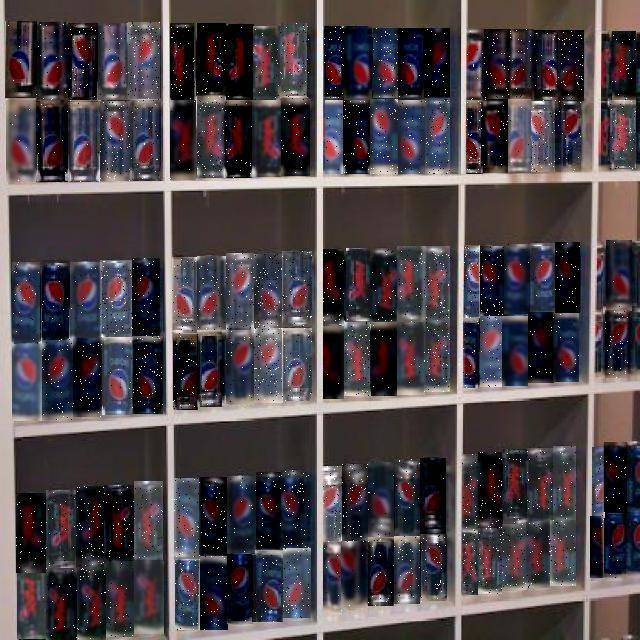Drinks: (36, 101, 70, 183), (5, 22, 38, 102), (68, 101, 100, 183), (100, 101, 132, 181), (6, 102, 37, 184), (130, 99, 161, 181), (128, 22, 160, 100), (70, 262, 102, 340), (42, 340, 73, 420), (98, 23, 130, 100), (100, 260, 132, 337), (46, 490, 76, 572), (37, 22, 68, 101), (73, 338, 104, 417), (102, 337, 133, 415), (132, 337, 163, 415), (16, 493, 46, 573), (104, 486, 134, 566), (68, 23, 98, 102), (196, 24, 227, 100), (224, 100, 254, 178), (134, 482, 163, 562), (252, 100, 282, 177), (12, 344, 42, 421), (42, 261, 70, 343), (76, 486, 104, 568), (282, 251, 312, 327), (197, 99, 225, 179), (12, 263, 40, 343), (199, 477, 227, 557), (281, 99, 310, 176), (197, 330, 226, 407), (227, 476, 256, 553), (46, 568, 77, 640), (134, 562, 164, 636), (197, 256, 226, 332), (282, 328, 312, 401), (132, 258, 160, 336), (282, 470, 310, 548), (254, 328, 283, 403), (254, 254, 283, 328), (174, 478, 200, 560), (226, 25, 254, 101), (282, 24, 310, 100), (371, 100, 399, 176), (226, 254, 254, 330), (398, 247, 426, 323), (77, 567, 106, 640), (371, 248, 399, 323), (170, 100, 196, 180), (254, 26, 282, 100), (345, 26, 373, 100), (343, 101, 371, 175), (399, 100, 427, 174), (226, 330, 254, 404), (106, 563, 134, 637), (200, 556, 228, 630), (256, 472, 282, 551), (17, 573, 48, 639), (397, 322, 425, 395), (255, 550, 283, 622), (343, 464, 369, 541), (369, 462, 395, 538), (420, 458, 446, 534), (527, 448, 553, 524), (228, 554, 256, 624), (283, 548, 311, 618), (170, 23, 195, 100), (172, 257, 197, 334), (173, 333, 198, 410), (395, 459, 420, 536), (503, 449, 528, 526), (424, 246, 450, 320), (371, 322, 397, 396), (425, 98, 450, 174), (346, 248, 371, 324), (532, 100, 558, 172), (424, 320, 450, 392), (483, 99, 508, 173), (345, 322, 370, 396), (484, 29, 510, 100), (509, 29, 535, 100), (559, 30, 585, 101), (530, 243, 556, 314), (606, 240, 632, 311), (528, 312, 554, 383), (478, 452, 502, 528), (399, 28, 425, 98), (504, 244, 530, 314), (503, 316, 529, 386), (424, 28, 450, 97), (610, 100, 636, 169), (553, 313, 579, 382), (368, 537, 394, 606), (508, 99, 532, 173), (555, 242, 580, 313), (175, 559, 200, 630), (342, 542, 368, 610), (394, 536, 420, 604), (421, 535, 447, 603), (373, 28, 398, 98), (480, 246, 505, 316), (558, 100, 582, 172), (550, 520, 576, 586), (534, 30, 558, 101), (553, 446, 576, 520), (605, 310, 630, 378), (324, 250, 346, 326), (612, 31, 636, 100), (502, 524, 527, 590), (526, 523, 551, 589), (604, 442, 627, 513), (324, 326, 346, 399), (478, 528, 502, 594), (480, 316, 502, 387), (603, 513, 626, 579), (324, 26, 344, 100), (323, 466, 342, 542), (462, 454, 480, 532), (323, 542, 342, 615), (325, 101, 343, 175), (466, 100, 483, 174), (467, 28, 484, 100), (465, 245, 481, 318), (463, 318, 479, 388), (462, 530, 478, 595), (592, 447, 605, 518), (590, 517, 604, 579)
